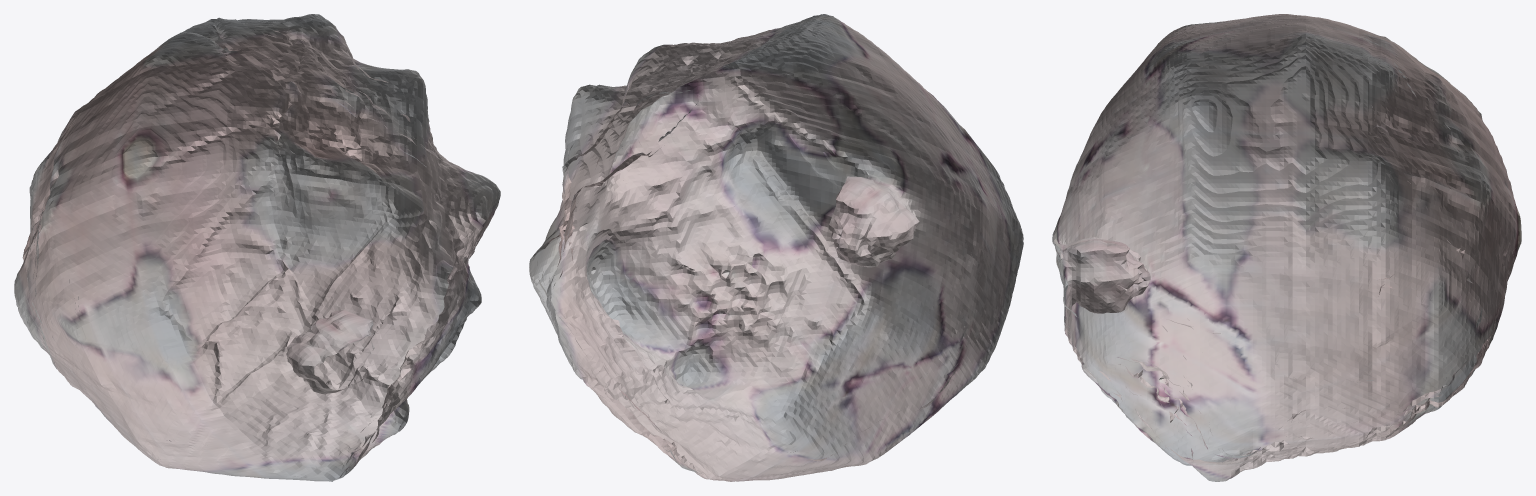
File: andresa.glb
The picture shows the model from 3 angles, left to right: view 1: azimuth 30°, elevation 25°; view 2: azimuth 150°, elevation 25°; view 3: azimuth 270°, elevation 25°; orthographic projection. The views are drawn at different scales.
Parts seen in each view (by area): view 1: world; view 2: world; view 3: world.
Boxes of the visible parts, left/top/right/bottom form: world: left=14, top=14, right=500, bottom=481; world: left=529, top=14, right=1023, bottom=481; world: left=1052, top=14, right=1521, bottom=481.
Bounding box in the file's own units: 0.9881 × 0.9763 × 0.9686.
